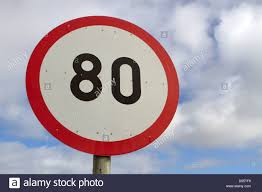Speed_limit_80km: (25, 16, 179, 156)
